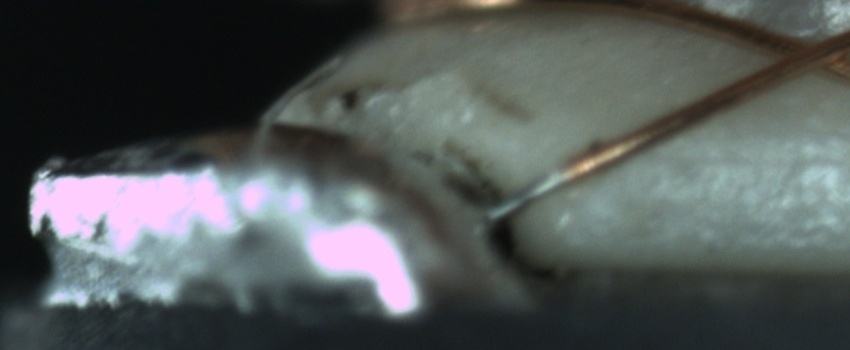CL: (756, 25, 846, 85)
DL: (643, 126, 843, 189)
TS: (483, 165, 572, 221)
TTCW: (484, 149, 592, 224)
